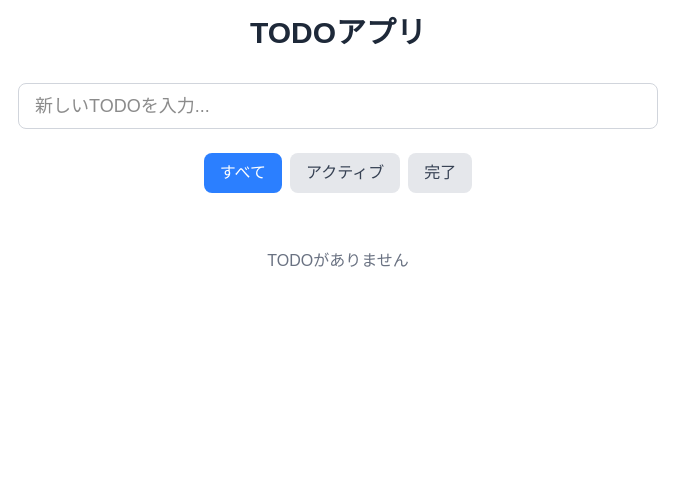
Test: TodoApp 統合テスト › 統計情報の更新 › TODOの追加・削除に応じて統計が更新される
The image size is (677, 493).
Type "タスク1" into the field with placeholder "新しいTODOを入力...". click: (338,106)
box: [18,83,658,129]
Then press Enter
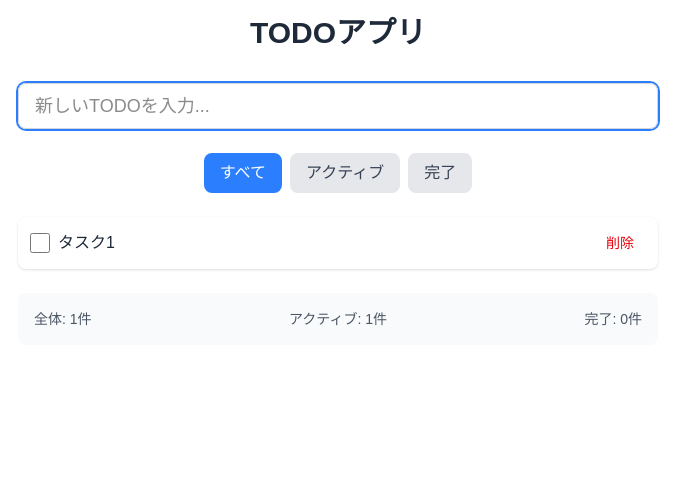
Check: the text "全体: 1件" is shown, box [34,309,92,329]
Check: the text "アクティブ: 1件" is shown, box [289,309,387,329]
Check: the text "完了: 0件" is shown, box [584,309,642,329]
Type "タスク2" into the field with placeholder "新しいTODOを入力...". click: (338,106)
box: [18,83,658,129]
Then press Enter
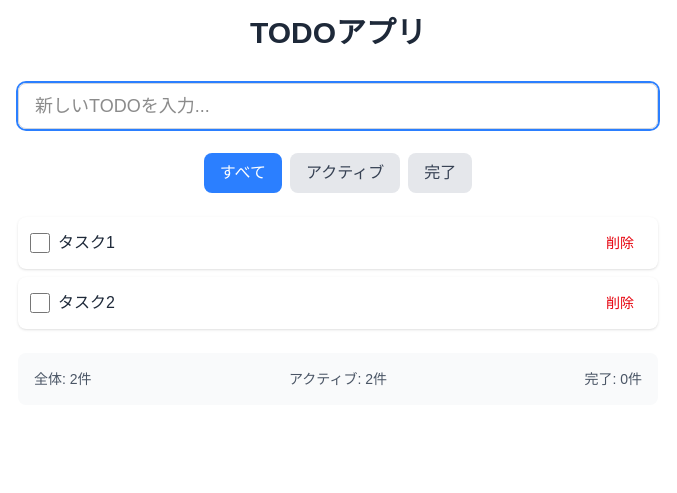
Check: the text "全体: 2件" is shown, box [34,369,92,389]
Click the checkbox named "タスク1を完了にする". click: (40,243)
box: [30,233,50,253]
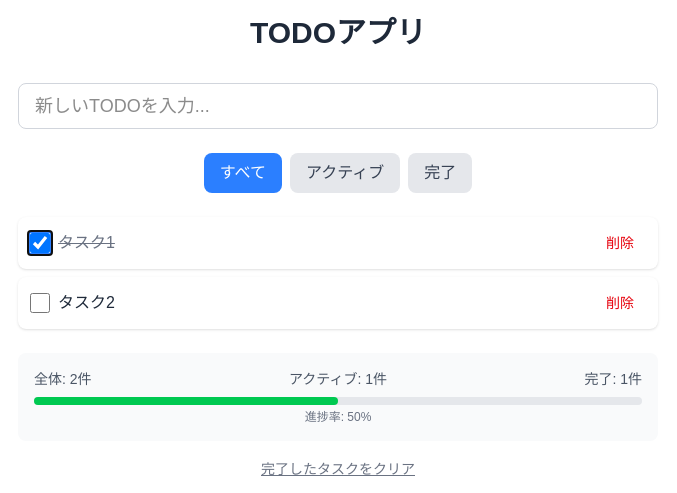
Check: the text "アクティブ: 1件" is shown, box [289,369,387,389]
Check: the text "完了: 1件" is shown, box [584,369,642,389]
Check: the text "進捗率: 50%" is shown, box [305,410,371,424]
